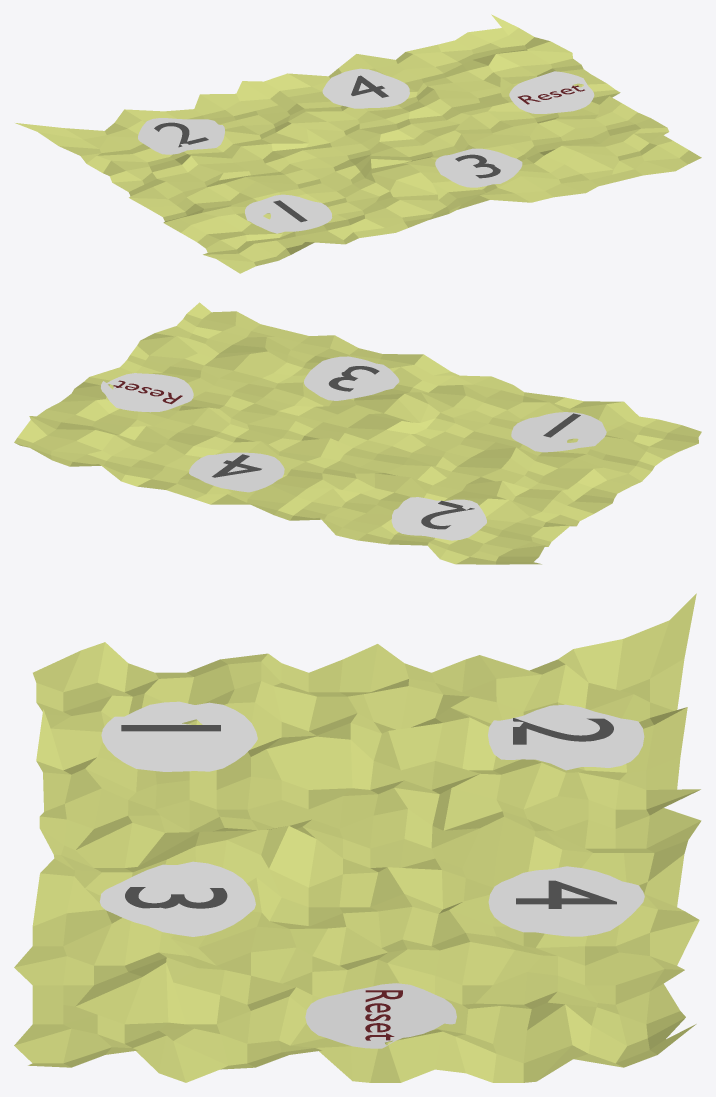
File: level2Mapping.fbx
3 renders of one model, top to bottom at view 1: azimuth 30°, elevation 25°; view 2: azimuth 150°, elevation 25°; view 3: azimuth 270°, elevation 25°, orthographic. The views are drawn at different scales.
Parts seen in each view (by area): view 1: Plane, Circle.004, Circle, Circle.003, Circle.001, Circle.002; view 2: Plane, Circle.001, Circle.002, Circle.003, Circle.004, Circle, Text.001, Text, Text.003; view 3: Plane, Circle.003, Circle, Circle.002, Circle.001, Circle.004, Text.001, Text, Text.003, Text.004.
Boxes of the visible parts, x1,y1,x2,y2 form: Plane: [15, 14, 701, 273]; Circle.004: [509, 71, 594, 113]; Circle: [322, 68, 409, 108]; Circle.003: [245, 194, 332, 233]; Circle.001: [138, 118, 224, 154]; Circle.002: [435, 148, 522, 187]; Plane: [14, 302, 701, 564]; Circle.001: [391, 497, 486, 540]; Circle.002: [304, 356, 399, 400]; Circle.003: [511, 412, 606, 452]; Circle.004: [101, 373, 193, 412]; Circle: [189, 452, 284, 492]; Text.001: [212, 454, 261, 477]; Text: [421, 500, 474, 529]; Text.003: [328, 366, 379, 391]; Plane: [14, 593, 701, 1082]; Circle.003: [101, 701, 257, 771]; Circle: [488, 866, 644, 936]; Circle.002: [99, 861, 255, 936]; Circle.001: [488, 704, 644, 770]; Circle.004: [305, 983, 456, 1048]; Text.001: [516, 880, 616, 908]; Text: [513, 718, 613, 744]; Text.003: [125, 887, 227, 908]; Text.004: [365, 990, 402, 1040].
Bounding box in the file's own units: 355 × 17.24 × 230.
